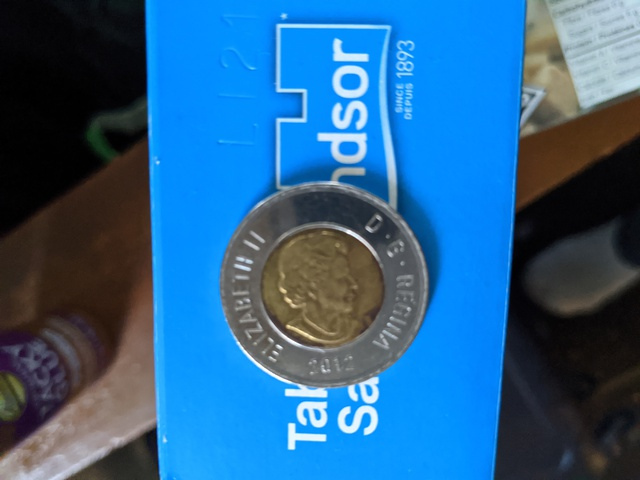twonie: (212, 177, 438, 387)
